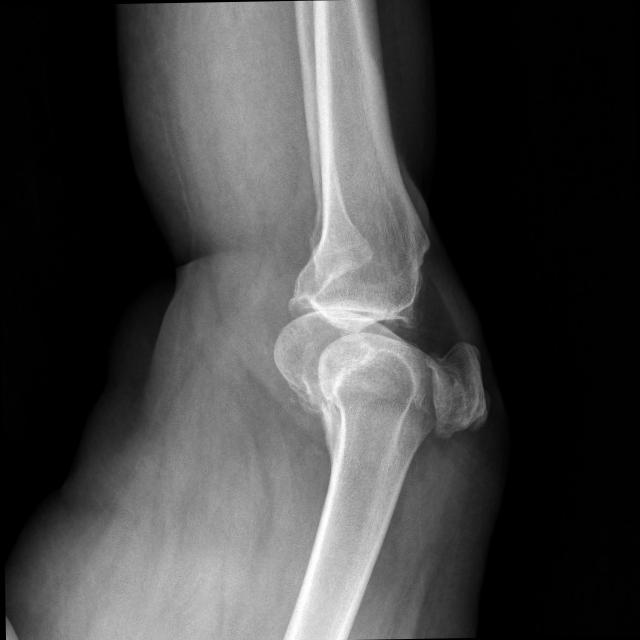Knee: (266, 230, 486, 445)
